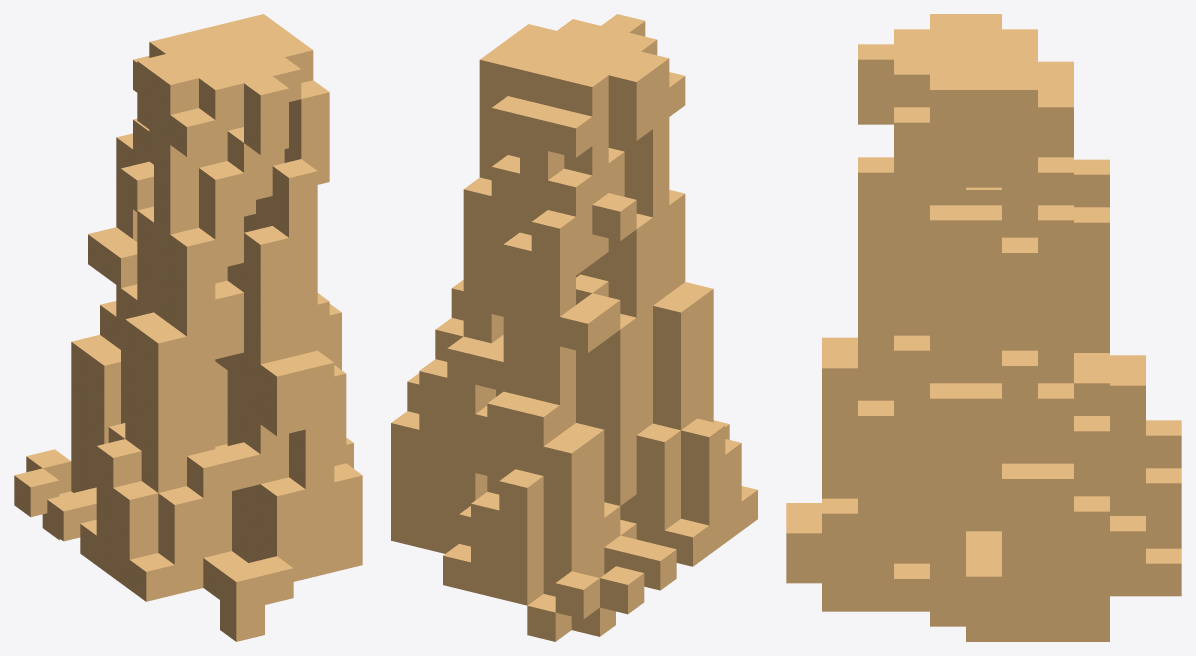
Rendered from voxel_Desert Pillar.glb.
3 views of the same model, side by side, from view 1: azimuth 30°, elevation 25°; view 2: azimuth 150°, elevation 25°; view 3: azimuth 270°, elevation 25° (orthographic). The views are drawn at different scales.
Visible parts, largest first — view 1: Node; view 2: Node; view 3: Node.
Part boxes in pixels (bbox=[...]): Node: bbox=[14, 14, 362, 641]; Node: bbox=[391, 14, 757, 641]; Node: bbox=[786, 14, 1181, 641].
Size of the model in its own units: 0.2801 by 0.5291 by 0.3424.
